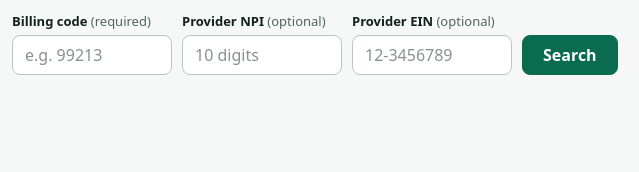
Test: identifier mistakes say what to fix, and the message clears on edit
The width and height of the screenshot is (639, 172).
In the dropdown labelled "Billing code (required)": (92, 55) top-left (12, 35), bottom-right (172, 75), type "99213"
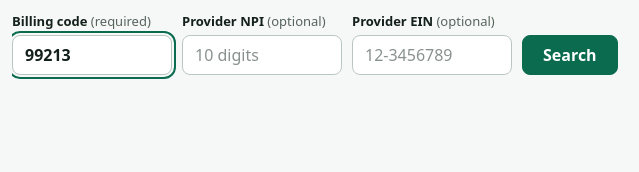
In the field labelled "Provider NPI (optional)": (262, 55) top-left (182, 35), bottom-right (342, 75), type "18817774"
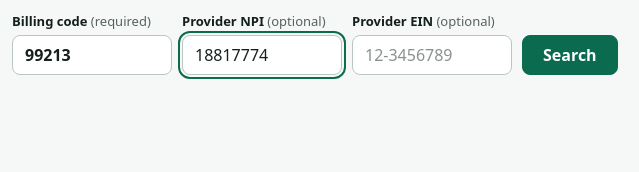
In the field labelled "Provider EIN (optional)": (432, 55) top-left (352, 35), bottom-right (512, 75), type "13-37573"
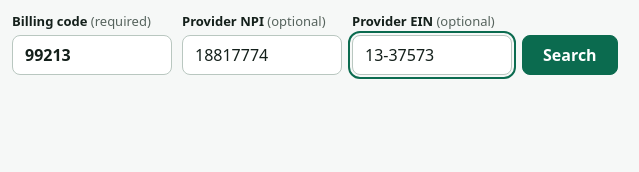
Click the button "Search": (570, 55) top-left (522, 35), bottom-right (618, 75)
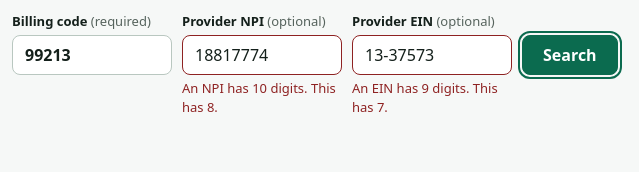
Expected: the text "An NPI has 10 digits. This has 8." is shown, top-left (182, 79), bottom-right (342, 117)
Expected: the text "An EIN has 9 digits. This has 7." is shown, top-left (352, 79), bottom-right (512, 117)
In the field labelled "Provider NPI (optional)": (262, 55) top-left (182, 35), bottom-right (342, 75), type "64"
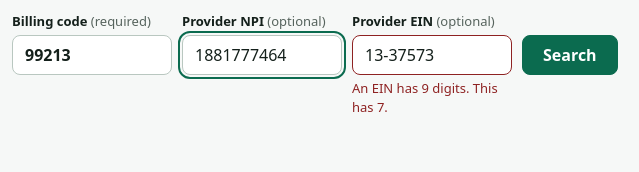
Expected: the text "An NPI has 10 digits. This has 8." is gone
